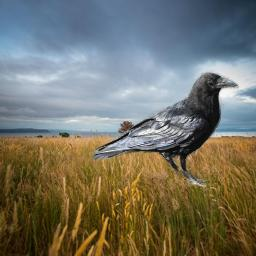Crow: (90, 70, 239, 187)
